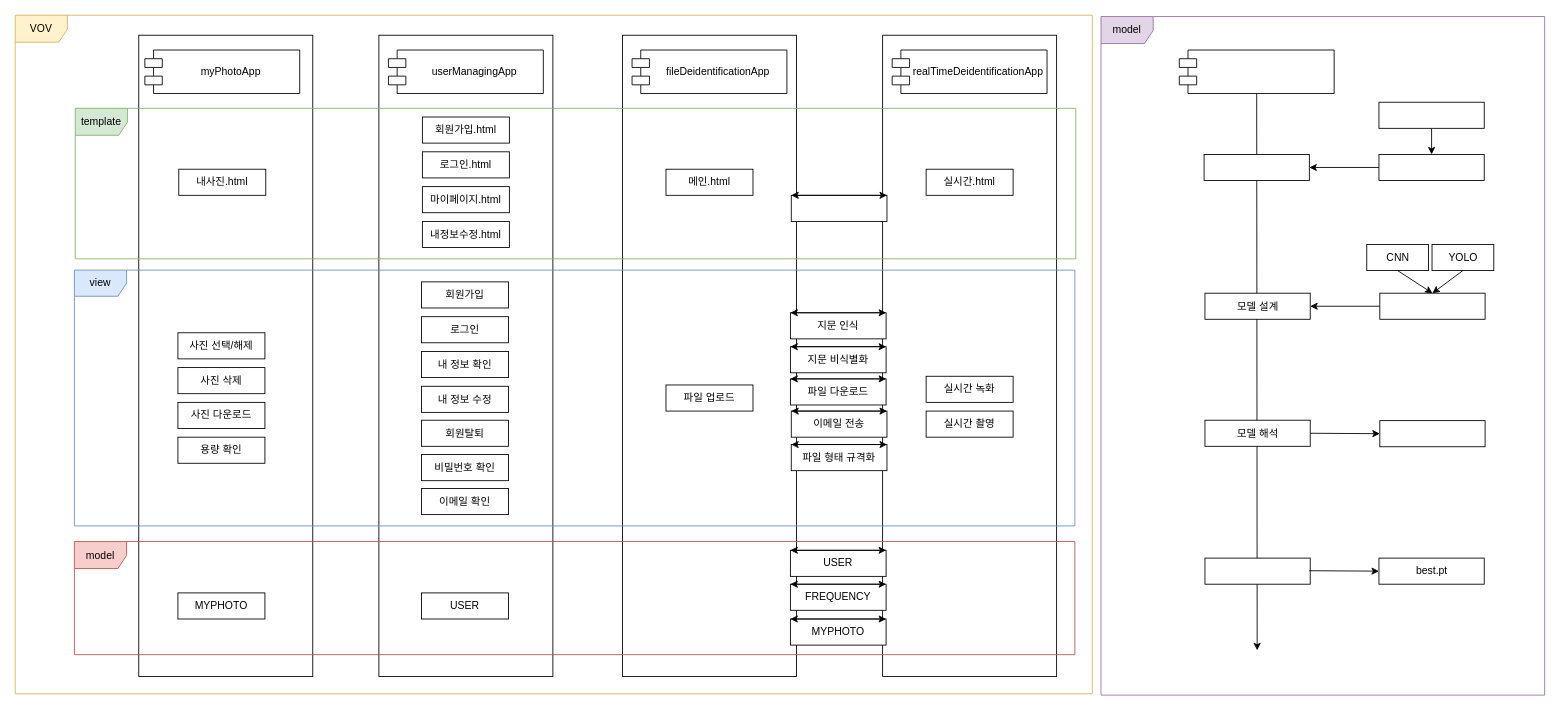
Some shapes in this 1560 by 711 pixel diagram are drawn without their labels. Each missing label, with the centre of its shape:
데이터셋 구축: the point at 1256,167
모델 배포: the point at 1257,570
알림.html: the point at 838,207
정확도 높이기: the point at 1432,433
지문 데이터 수집: the point at 1431,114
지문 유무 라벨링: the point at 1431,167
지문 유무 식별: the point at 1256,71
최적 알고리즘 선택: the point at 1432,305
